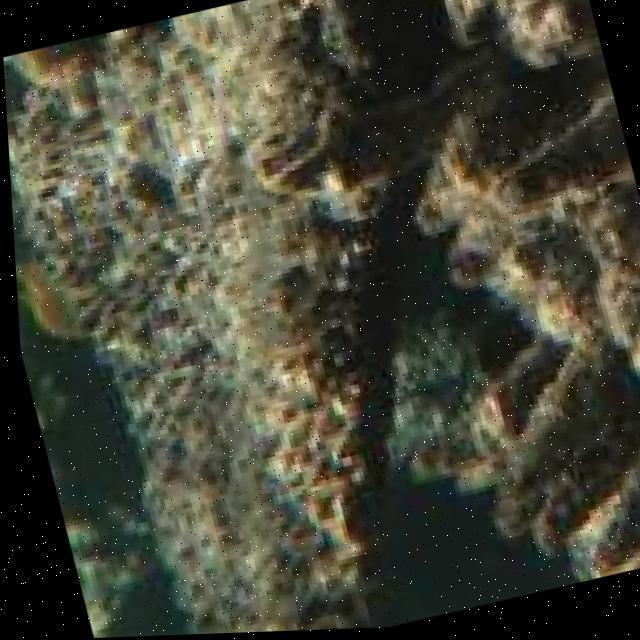Dead Coral: (68, 0, 608, 572)
